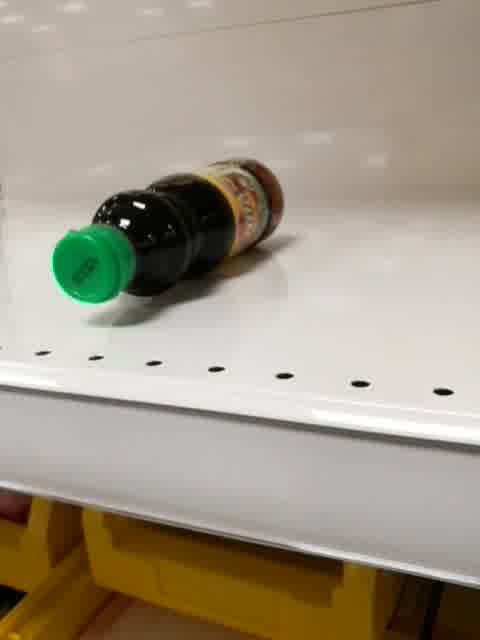cookingoil: (49, 155, 287, 307)
